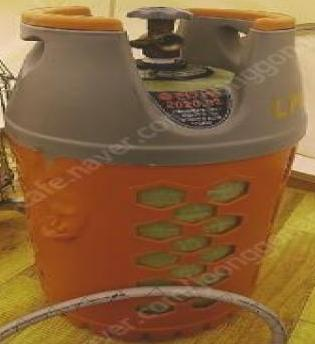cylinder: (1, 1, 315, 344)
